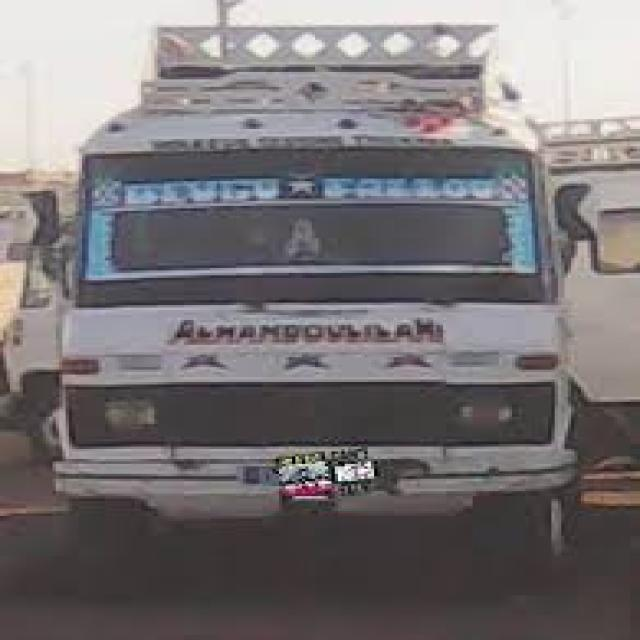ndiaga ndiaye: (54, 29, 571, 506)
